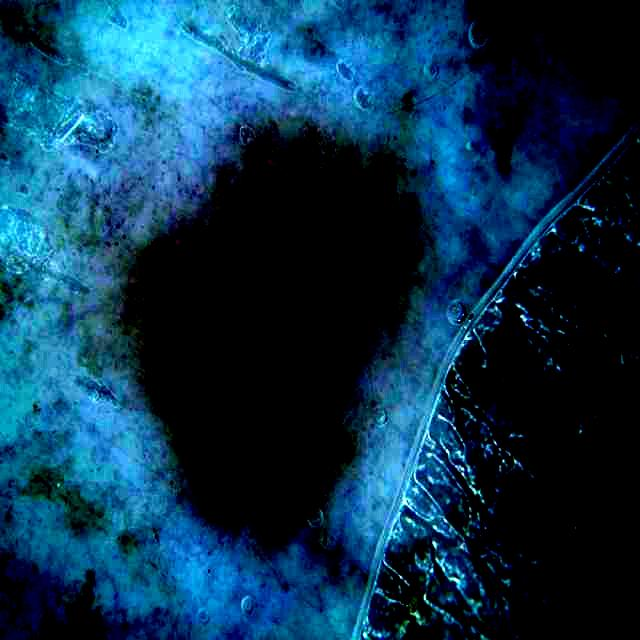MEL: (147, 124, 394, 518)
